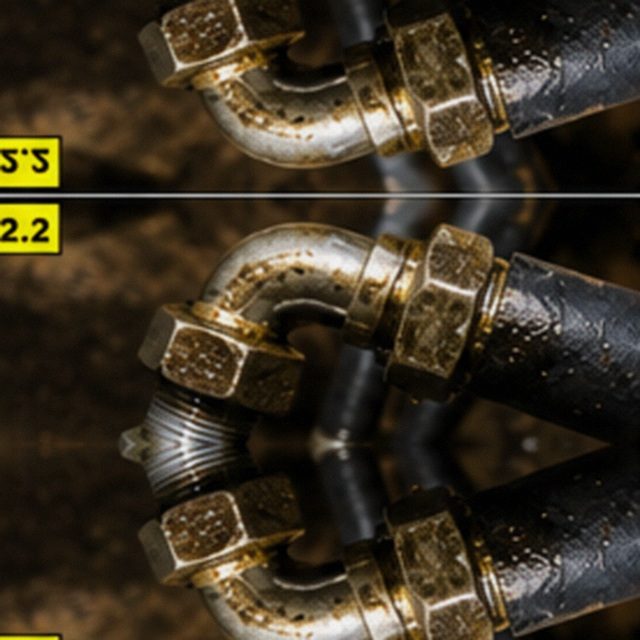hydraulic_oil_leak: (159, 205, 463, 470)
